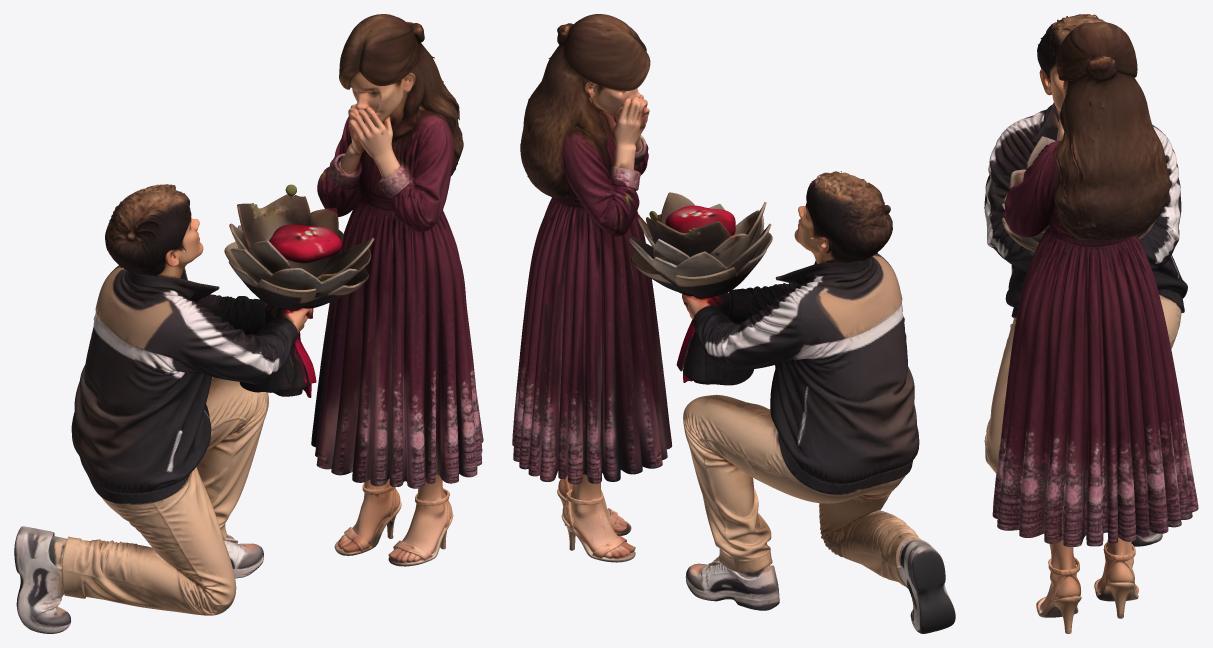
Rendered from proposal.glb.
3 renders of one model, left to right at view 1: azimuth 30°, elevation 25°; view 2: azimuth 150°, elevation 25°; view 3: azimuth 270°, elevation 25°, orthographic. The views are drawn at different scales.
Parts seen in each view (by area): view 1: node_0; view 2: node_0; view 3: node_0.
Part boxes in pixels (box(x1,y1,x2,y2)): node_0: box(14, 14, 483, 633); node_0: box(512, 14, 955, 633); node_0: box(984, 14, 1198, 633).
Bounding box in the file's own units: 0.818 × 0.9252 × 0.3084.
1 material, 1 textured.
